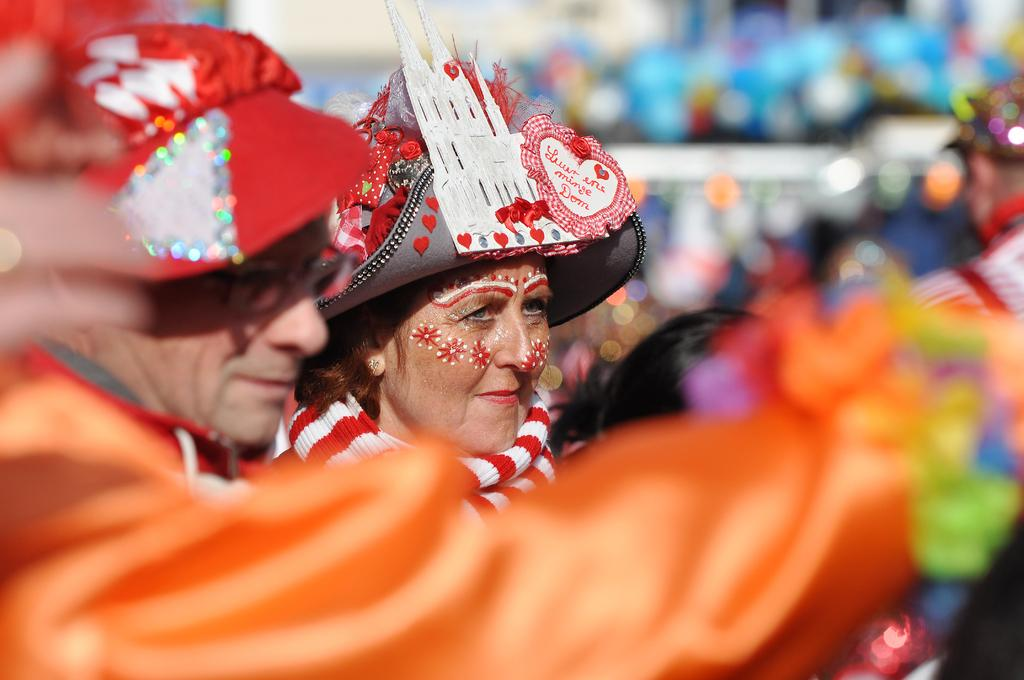Hat: (310, 0, 648, 328), (52, 20, 374, 272)
